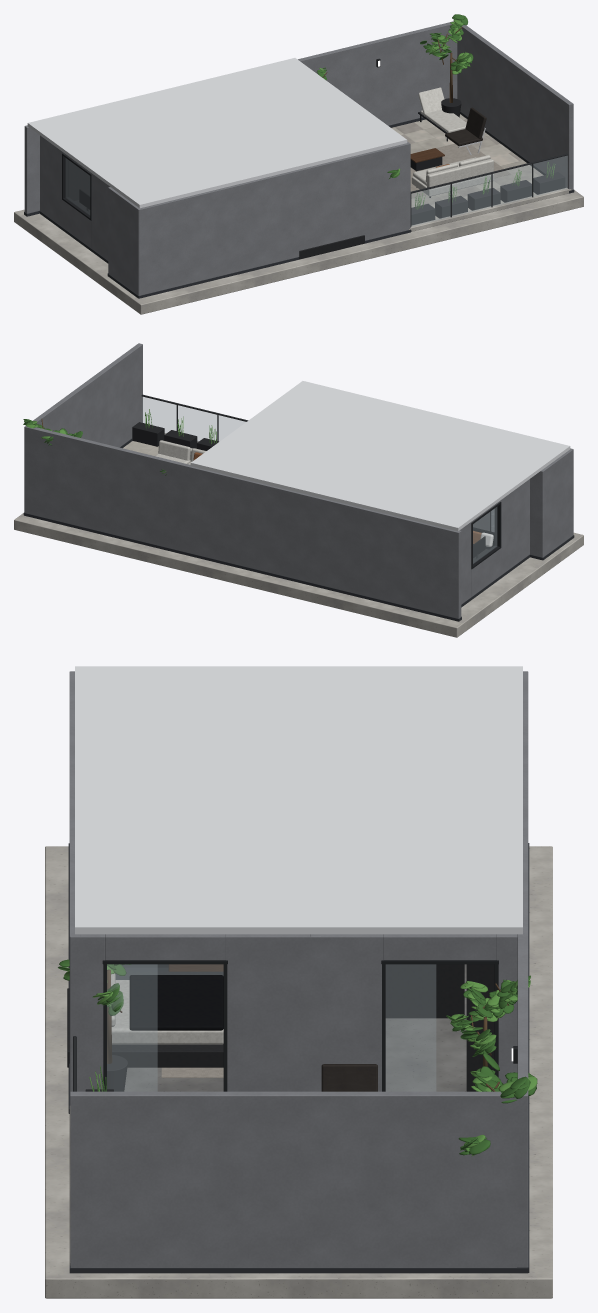
The model's file is apartment-loft.glb.
3 views of the same model, one above another, from view 1: azimuth 30°, elevation 25°; view 2: azimuth 150°, elevation 25°; view 3: azimuth 270°, elevation 25° (orthographic). The views are drawn at different scales.
Parts seen in each view (by area): view 1: Ceiling, Wall_S_08, Slab, Wall_N_00, Wall_E_09, Glass_S_10, Floor_terrace, Wall_W_07, Wall_W_01, Wall_W_02, Curb, OutdoorSofa_back (+17 smaller); view 2: Wall_N_00, Ceiling, Slab, Wall_E_09, Wall_W_07, Glass_S_10, Wall_W_02, Skirting_N_00, Wall_N_06, Glass_W_05, Wall_W_01, Wall_W_03 (+3 smaller); view 3: Ceiling, Wall_E_09, Slab, Wall_I_19, Floor_living_a, SlideLeaf_1, SlideLeaf_2, Duvet, Wall_I_20, BarBase, Wall_N_00, Wall_I_22 (+11 smaller).
Part boxes in pixels (left/top/right/bottom): Ceiling: left=27, top=58, right=407, bottom=208; Wall_S_08: left=139, top=142, right=410, bottom=295; Slab: left=14, top=190, right=583, bottom=314; Wall_N_00: left=24, top=21, right=457, bottom=213; Wall_E_09: left=457, top=25, right=573, bottom=190; Glass_S_10: left=411, top=156, right=567, bottom=226; Floor_terrace: left=391, top=114, right=543, bottom=219; Wall_W_07: left=108, top=187, right=142, bottom=295; Wall_W_01: left=40, top=135, right=62, bottom=227; Wall_W_02: left=91, top=173, right=109, bottom=260; Curb: left=409, top=188, right=571, bottom=231; OutdoorSofa_back: left=427, top=159, right=493, bottom=189; Wall_N_00: left=24, top=426, right=461, bottom=618; Ceiling: left=190, top=381, right=570, bottom=531; Slab: left=14, top=433, right=583, bottom=637; Wall_E_09: left=24, top=343, right=142, bottom=512; Wall_W_07: left=543, top=448, right=573, bottom=557; Glass_S_10: left=142, top=397, right=245, bottom=441; Wall_W_02: left=500, top=479, right=529, bottom=575; Skirting_N_00: left=24, top=512, right=461, bottom=621; Wall_N_06: left=530, top=469, right=544, bottom=557; Glass_W_05: left=473, top=507, right=496, bottom=563; Wall_W_01: left=459, top=521, right=471, bottom=604; Wall_W_03: left=472, top=549, right=499, bottom=596; Ceiling: left=75, top=666, right=522, bottom=934; Wall_E_09: left=70, top=1091, right=527, bottom=1267; Slab: left=45, top=846, right=552, bottom=1298; Wall_I_19: left=225, top=934, right=383, bottom=1091; Floor_living_a: left=188, top=964, right=466, bottom=1091; SlideLeaf_1: left=386, top=964, right=435, bottom=1091; SlideLeaf_2: left=107, top=964, right=157, bottom=1091; Duvet: left=129, top=975, right=223, bottom=1030; Wall_I_20: left=70, top=934, right=104, bottom=1091; BarBase: left=385, top=964, right=464, bottom=1018; Wall_N_00: left=517, top=671, right=528, bottom=1266; Wall_I_22: left=105, top=934, right=225, bottom=960.
Size of the model in its own units: 13.7 by 3.12 by 6.75.
Materials: 47 (16 with a texture image).
